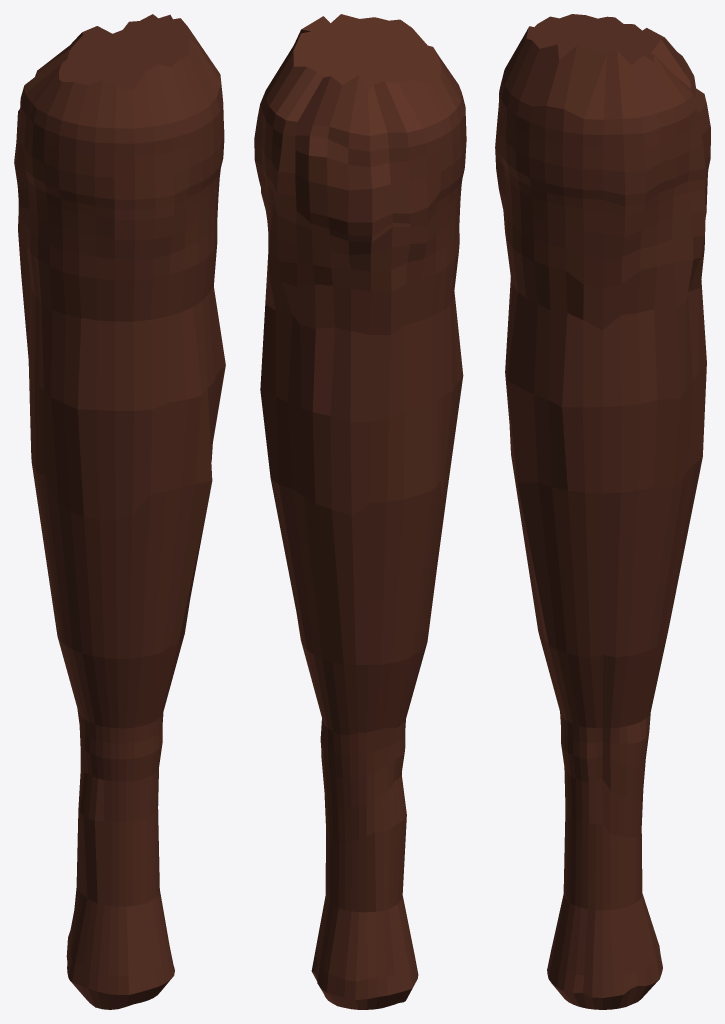
Rendered from CaveManBat.fbx.
3 views of the same model, side by side, from view 1: azimuth 30°, elevation 25°; view 2: azimuth 150°, elevation 25°; view 3: azimuth 270°, elevation 25° (orthographic). The views are drawn at different scales.
Parts seen in each view (by area): view 1: Cylinder; view 2: Cylinder; view 3: Cylinder.
Part boxes in pixels (left/top/right/bottom): Cylinder: left=14, top=14, right=225, bottom=1009; Cylinder: left=254, top=14, right=466, bottom=1009; Cylinder: left=495, top=14, right=710, bottom=1009.
Size of the model in its own units: 162 by 816 by 163.
